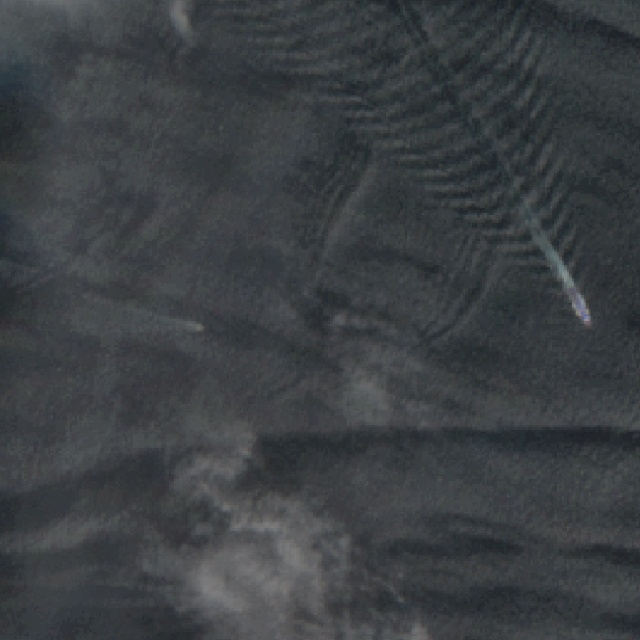wake: (395, 63, 639, 359)
